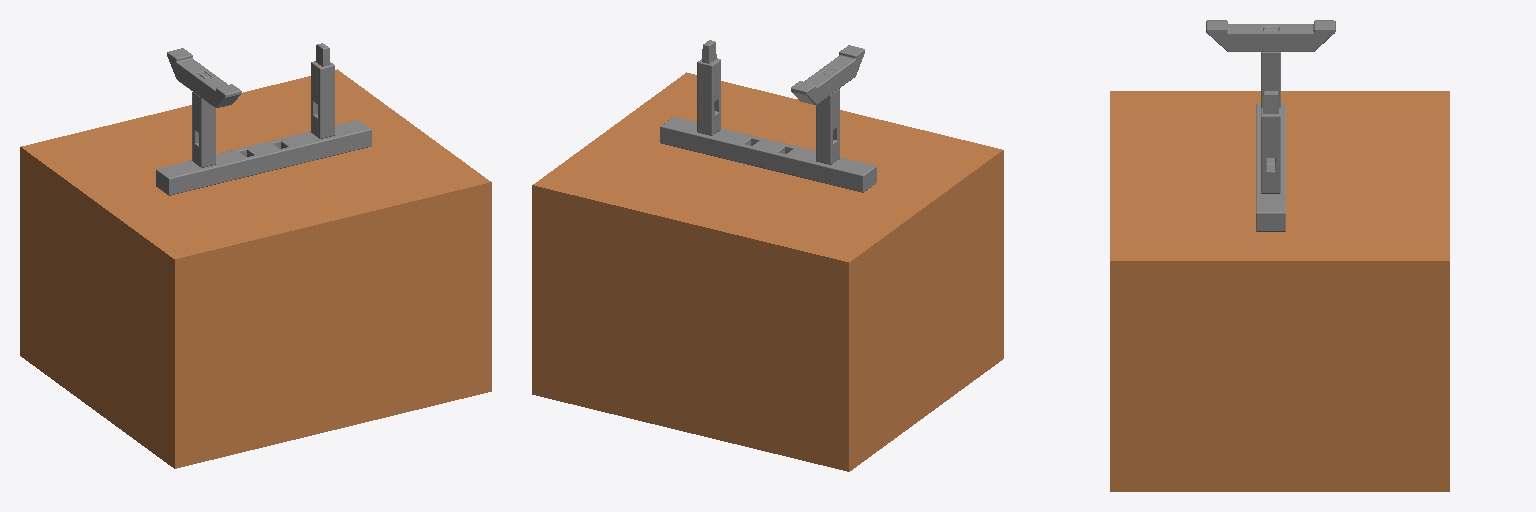
robot.urdf — table_beam_2x_1_scene_0086:
<?xml version="1.0"?>
<robot name="table_beam_2x_1_scene_0086">
  <link name="box">
    <visual>
      <material name="wood"><color rgba="0.82 0.56 0.35 1.0"/></material>
      <origin xyz="0 0 0"/>
      <geometry><box size="0.475 0.4 0.3"/></geometry>
    </visual>
    <collision>
      <origin xyz="0 0 0"/>
      <geometry><box size="0.475 0.4 0.3"/></geometry>
    </collision>
    <inertial>
      <mass value="500"/>
      <friction value="1.0"/>
      <inertia ixx="1000.0" ixy="0.0" ixz="0.0" iyy="1000.0" iyz="0.0" izz="1000.0"/>
    </inertial>
  </link>
  <link name="part_6_canonical">
    <visual>
      <origin xyz="0 0 0" rpy="0 0 0"/>
      <geometry><mesh filename="../../6/6_canonical.obj" scale="1 1 1"/></geometry>
      <material name="placed_0"><color rgba="0.6 0.6 0.6 1.0"/></material>
    </visual>
    <collision>
      <origin xyz="0 0 0" rpy="0 0 0"/>
      <geometry><mesh filename="../../6/6_canonical.obj" scale="1 1 1"/></geometry>
    </collision>
  </link>
  <joint name="part_6_canonical_joint" type="fixed">
    <parent link="box"/>
    <child link="part_6_canonical"/>
    <origin xyz="0.005325 -0.010738 0.162666" rpy="0.000000 0.000000 0.000000"/>
  </joint>
  <link name="part_2_canonical">
    <visual>
      <origin xyz="0 0 0" rpy="0 0 0"/>
      <geometry><mesh filename="../../2/2_canonical.obj" scale="1 1 1"/></geometry>
      <material name="placed_1"><color rgba="0.6 0.6 0.6 1.0"/></material>
    </visual>
    <collision>
      <origin xyz="0 0 0" rpy="0 0 0"/>
      <geometry><mesh filename="../../2/2_canonical.obj" scale="1 1 1"/></geometry>
    </collision>
  </link>
  <joint name="part_2_canonical_joint" type="fixed">
    <parent link="box"/>
    <child link="part_2_canonical"/>
    <origin xyz="-0.083601 -0.010738 0.225384" rpy="0.000000 -1.570796 0.000000"/>
  </joint>
  <link name="part_0_canonical">
    <visual>
      <origin xyz="0 0 0" rpy="0 0 0"/>
      <geometry><mesh filename="../../0/0_canonical.obj" scale="1 1 1"/></geometry>
      <material name="placed_2"><color rgba="0.6 0.6 0.6 1.0"/></material>
    </visual>
    <collision>
      <origin xyz="0 0 0" rpy="0 0 0"/>
      <geometry><mesh filename="../../0/0_canonical.obj" scale="1 1 1"/></geometry>
    </collision>
  </link>
  <joint name="part_0_canonical_joint" type="fixed">
    <parent link="box"/>
    <child link="part_0_canonical"/>
    <origin xyz="-0.083575 -0.010738 0.292243" rpy="1.570796 0.000000 -1.570796"/>
  </joint>
  <link name="part_3_hull_0">
    <visual>
      <origin xyz="0 0 0" rpy="0 0 0"/>
      <geometry><mesh filename="../../3/coacd/decomp_0.obj" scale="1 1 1"/></geometry>
      <material name="placed_3"><color rgba="0.6 0.6 0.6 1.0"/></material>
    </visual>
    <collision>
      <origin xyz="0 0 0" rpy="0 0 0"/>
      <geometry><mesh filename="../../3/coacd/decomp_0.obj" scale="1 1 1"/></geometry>
    </collision>
  </link>
  <joint name="part_3_hull_0_joint" type="fixed">
    <parent link="box"/>
    <child link="part_3_hull_0"/>
    <origin xyz="0.094252 -0.010738 0.225384" rpy="0.000000 -1.570796 0.000000"/>
  </joint>
  <link name="part_3_hull_1">
    <visual>
      <origin xyz="0 0 0" rpy="0 0 0"/>
      <geometry><mesh filename="../../3/coacd/decomp_1.obj" scale="1 1 1"/></geometry>
      <material name="placed_4"><color rgba="0.6 0.6 0.6 1.0"/></material>
    </visual>
    <collision>
      <origin xyz="0 0 0" rpy="0 0 0"/>
      <geometry><mesh filename="../../3/coacd/decomp_1.obj" scale="1 1 1"/></geometry>
    </collision>
  </link>
  <joint name="part_3_hull_1_joint" type="fixed">
    <parent link="box"/>
    <child link="part_3_hull_1"/>
    <origin xyz="0.094252 -0.010738 0.225384" rpy="0.000000 -1.570796 0.000000"/>
  </joint>
  <link name="part_3_hull_2">
    <visual>
      <origin xyz="0 0 0" rpy="0 0 0"/>
      <geometry><mesh filename="../../3/coacd/decomp_10.obj" scale="1 1 1"/></geometry>
      <material name="placed_5"><color rgba="0.6 0.6 0.6 1.0"/></material>
    </visual>
    <collision>
      <origin xyz="0 0 0" rpy="0 0 0"/>
      <geometry><mesh filename="../../3/coacd/decomp_10.obj" scale="1 1 1"/></geometry>
    </collision>
  </link>
  <joint name="part_3_hull_2_joint" type="fixed">
    <parent link="box"/>
    <child link="part_3_hull_2"/>
    <origin xyz="0.094252 -0.010738 0.225384" rpy="0.000000 -1.570796 0.000000"/>
  </joint>
  <link name="part_3_hull_3">
    <visual>
      <origin xyz="0 0 0" rpy="0 0 0"/>
      <geometry><mesh filename="../../3/coacd/decomp_11.obj" scale="1 1 1"/></geometry>
      <material name="placed_6"><color rgba="0.6 0.6 0.6 1.0"/></material>
    </visual>
    <collision>
      <origin xyz="0 0 0" rpy="0 0 0"/>
      <geometry><mesh filename="../../3/coacd/decomp_11.obj" scale="1 1 1"/></geometry>
    </collision>
  </link>
  <joint name="part_3_hull_3_joint" type="fixed">
    <parent link="box"/>
    <child link="part_3_hull_3"/>
    <origin xyz="0.094252 -0.010738 0.225384" rpy="0.000000 -1.570796 0.000000"/>
  </joint>
  <link name="part_3_hull_4">
    <visual>
      <origin xyz="0 0 0" rpy="0 0 0"/>
      <geometry><mesh filename="../../3/coacd/decomp_12.obj" scale="1 1 1"/></geometry>
      <material name="placed_7"><color rgba="0.6 0.6 0.6 1.0"/></material>
    </visual>
    <collision>
      <origin xyz="0 0 0" rpy="0 0 0"/>
      <geometry><mesh filename="../../3/coacd/decomp_12.obj" scale="1 1 1"/></geometry>
    </collision>
  </link>
  <joint name="part_3_hull_4_joint" type="fixed">
    <parent link="box"/>
    <child link="part_3_hull_4"/>
    <origin xyz="0.094252 -0.010738 0.225384" rpy="0.000000 -1.570796 0.000000"/>
  </joint>
  <link name="part_3_hull_5">
    <visual>
      <origin xyz="0 0 0" rpy="0 0 0"/>
      <geometry><mesh filename="../../3/coacd/decomp_2.obj" scale="1 1 1"/></geometry>
      <material name="placed_8"><color rgba="0.6 0.6 0.6 1.0"/></material>
    </visual>
    <collision>
      <origin xyz="0 0 0" rpy="0 0 0"/>
      <geometry><mesh filename="../../3/coacd/decomp_2.obj" scale="1 1 1"/></geometry>
    </collision>
  </link>
  <joint name="part_3_hull_5_joint" type="fixed">
    <parent link="box"/>
    <child link="part_3_hull_5"/>
    <origin xyz="0.094252 -0.010738 0.225384" rpy="0.000000 -1.570796 0.000000"/>
  </joint>
  <link name="part_3_hull_6">
    <visual>
      <origin xyz="0 0 0" rpy="0 0 0"/>
      <geometry><mesh filename="../../3/coacd/decomp_3.obj" scale="1 1 1"/></geometry>
      <material name="placed_9"><color rgba="0.6 0.6 0.6 1.0"/></material>
    </visual>
    <collision>
      <origin xyz="0 0 0" rpy="0 0 0"/>
      <geometry><mesh filename="../../3/coacd/decomp_3.obj" scale="1 1 1"/></geometry>
    </collision>
  </link>
  <joint name="part_3_hull_6_joint" type="fixed">
    <parent link="box"/>
    <child link="part_3_hull_6"/>
    <origin xyz="0.094252 -0.010738 0.225384" rpy="0.000000 -1.570796 0.000000"/>
  </joint>
  <link name="part_3_hull_7">
    <visual>
      <origin xyz="0 0 0" rpy="0 0 0"/>
      <geometry><mesh filename="../../3/coacd/decomp_4.obj" scale="1 1 1"/></geometry>
      <material name="placed_10"><color rgba="0.6 0.6 0.6 1.0"/></material>
    </visual>
    <collision>
      <origin xyz="0 0 0" rpy="0 0 0"/>
      <geometry><mesh filename="../../3/coacd/decomp_4.obj" scale="1 1 1"/></geometry>
    </collision>
  </link>
  <joint name="part_3_hull_7_joint" type="fixed">
    <parent link="box"/>
    <child link="part_3_hull_7"/>
    <origin xyz="0.094252 -0.010738 0.225384" rpy="0.000000 -1.570796 0.000000"/>
  </joint>
  <link name="part_3_hull_8">
    <visual>
      <origin xyz="0 0 0" rpy="0 0 0"/>
      <geometry><mesh filename="../../3/coacd/decomp_5.obj" scale="1 1 1"/></geometry>
      <material name="placed_11"><color rgba="0.6 0.6 0.6 1.0"/></material>
    </visual>
    <collision>
      <origin xyz="0 0 0" rpy="0 0 0"/>
      <geometry><mesh filename="../../3/coacd/decomp_5.obj" scale="1 1 1"/></geometry>
    </collision>
  </link>
  <joint name="part_3_hull_8_joint" type="fixed">
    <parent link="box"/>
    <child link="part_3_hull_8"/>
    <origin xyz="0.094252 -0.010738 0.225384" rpy="0.000000 -1.570796 0.000000"/>
  </joint>
  <link name="part_3_hull_9">
    <visual>
      <origin xyz="0 0 0" rpy="0 0 0"/>
      <geometry><mesh filename="../../3/coacd/decomp_6.obj" scale="1 1 1"/></geometry>
      <material name="placed_12"><color rgba="0.6 0.6 0.6 1.0"/></material>
    </visual>
    <collision>
      <origin xyz="0 0 0" rpy="0 0 0"/>
      <geometry><mesh filename="../../3/coacd/decomp_6.obj" scale="1 1 1"/></geometry>
    </collision>
  </link>
  <joint name="part_3_hull_9_joint" type="fixed">
    <parent link="box"/>
    <child link="part_3_hull_9"/>
    <origin xyz="0.094252 -0.010738 0.225384" rpy="0.000000 -1.570796 0.000000"/>
  </joint>
  <link name="part_3_hull_10">
    <visual>
      <origin xyz="0 0 0" rpy="0 0 0"/>
      <geometry><mesh filename="../../3/coacd/decomp_7.obj" scale="1 1 1"/></geometry>
      <material name="placed_13"><color rgba="0.6 0.6 0.6 1.0"/></material>
    </visual>
    <collision>
      <origin xyz="0 0 0" rpy="0 0 0"/>
      <geometry><mesh filename="../../3/coacd/decomp_7.obj" scale="1 1 1"/></geometry>
    </collision>
  </link>
  <joint name="part_3_hull_10_joint" type="fixed">
    <parent link="box"/>
    <child link="part_3_hull_10"/>
    <origin xyz="0.094252 -0.010738 0.225384" rpy="0.000000 -1.570796 0.000000"/>
  </joint>
  <link name="part_3_hull_11">
    <visual>
      <origin xyz="0 0 0" rpy="0 0 0"/>
      <geometry><mesh filename="../../3/coacd/decomp_8.obj" scale="1 1 1"/></geometry>
      <material name="placed_14"><color rgba="0.6 0.6 0.6 1.0"/></material>
    </visual>
    <collision>
      <origin xyz="0 0 0" rpy="0 0 0"/>
      <geometry><mesh filename="../../3/coacd/decomp_8.obj" scale="1 1 1"/></geometry>
    </collision>
  </link>
  <joint name="part_3_hull_11_joint" type="fixed">
    <parent link="box"/>
    <child link="part_3_hull_11"/>
    <origin xyz="0.094252 -0.010738 0.225384" rpy="0.000000 -1.570796 0.000000"/>
  </joint>
  <link name="part_3_hull_12">
    <visual>
      <origin xyz="0 0 0" rpy="0 0 0"/>
      <geometry><mesh filename="../../3/coacd/decomp_9.obj" scale="1 1 1"/></geometry>
      <material name="placed_15"><color rgba="0.6 0.6 0.6 1.0"/></material>
    </visual>
    <collision>
      <origin xyz="0 0 0" rpy="0 0 0"/>
      <geometry><mesh filename="../../3/coacd/decomp_9.obj" scale="1 1 1"/></geometry>
    </collision>
  </link>
  <joint name="part_3_hull_12_joint" type="fixed">
    <parent link="box"/>
    <child link="part_3_hull_12"/>
    <origin xyz="0.094252 -0.010738 0.225384" rpy="0.000000 -1.570796 0.000000"/>
  </joint>
</robot>

--- Facts derived from the render (not from the file) ---
Views: 3 orthographic renders of the robot side by side, from view 1: azimuth 30°, elevation 25°; view 2: azimuth 150°, elevation 25°; view 3: azimuth 270°, elevation 25°.
Robot: table_beam_2x_1_scene_0086 — 17 links, 16 joints (16 fixed); root link box; default pose: all joints at 0.
Links seen in each view (by area): view 1: box, part_6_canonical, part_0_canonical, part_2_canonical; view 2: box, part_6_canonical, part_0_canonical, part_2_canonical; view 3: box, part_0_canonical, part_6_canonical, part_2_canonical, part_3_hull_0.
Link boxes in pixels (x1=…): box: x1=20, y1=69, x2=491, y2=468; part_6_canonical: x1=156, y1=120, x2=371, y2=195; part_0_canonical: x1=167, y1=48, x2=241, y2=107; part_2_canonical: x1=192, y1=72, x2=215, y2=167; box: x1=532, y1=72, x2=1003, y2=471; part_6_canonical: x1=660, y1=117, x2=876, y2=192; part_0_canonical: x1=791, y1=45, x2=864, y2=104; part_2_canonical: x1=816, y1=69, x2=839, y2=164; box: x1=1110, y1=91, x2=1449, y2=491; part_0_canonical: x1=1206, y1=20, x2=1335, y2=51; part_6_canonical: x1=1256, y1=104, x2=1285, y2=231; part_2_canonical: x1=1261, y1=27, x2=1280, y2=107; part_3_hull_0: x1=1261, y1=114, x2=1280, y2=157.
Bounding box of the posed robot: 0.475 × 0.4 × 0.4575 m (x, y, z).
16 mesh visuals loaded from 16 distinct referenced files (16 OBJ).
